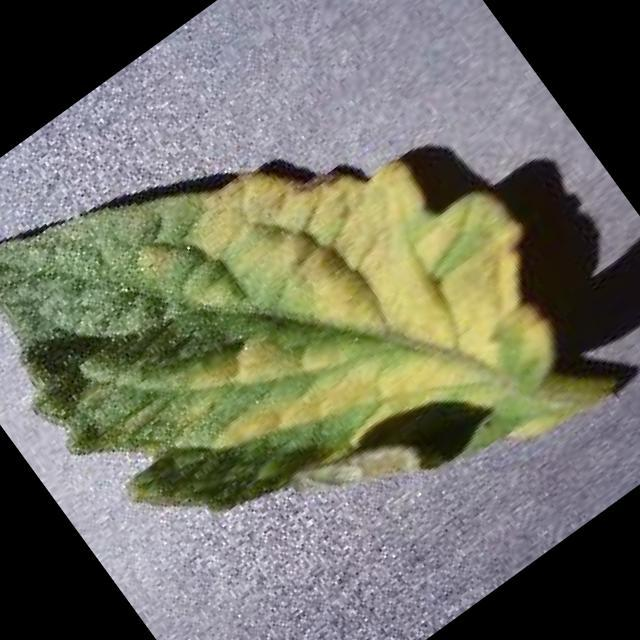Tomato mold leaf: (0, 0, 634, 640)
